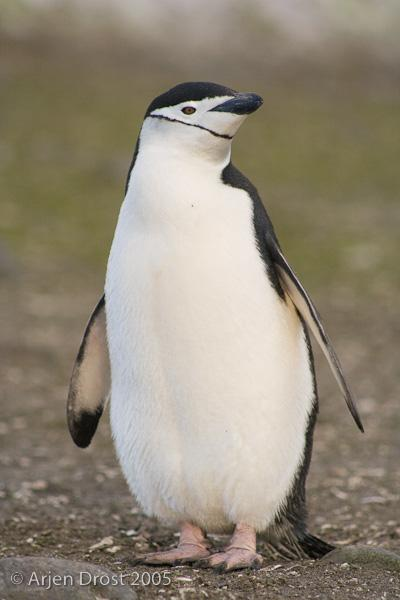chinstrap: (33, 46, 379, 590)
